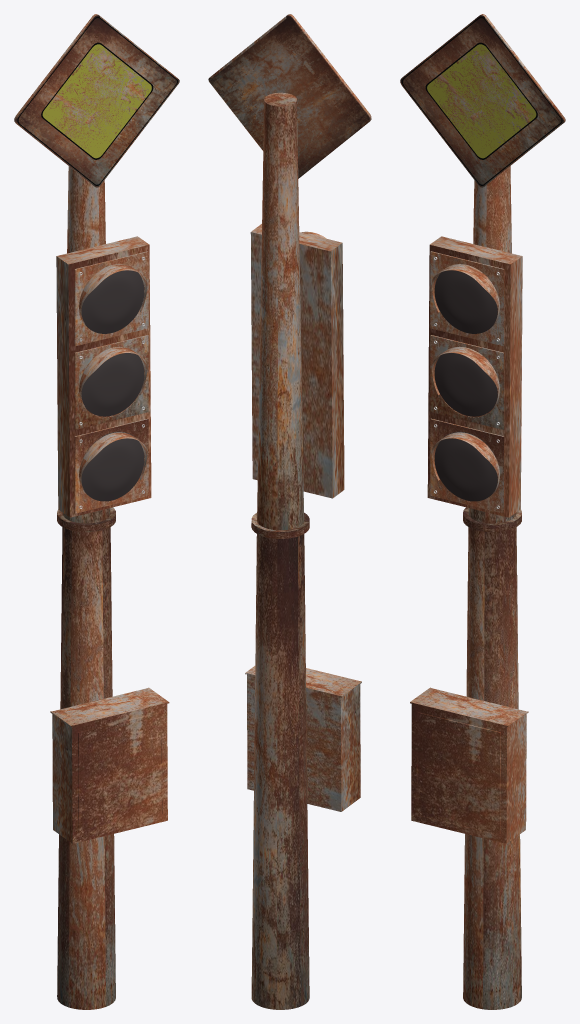
3 renders of one model, left to right at view 1: azimuth 30°, elevation 25°; view 2: azimuth 150°, elevation 25°; view 3: azimuth 330°, elevation 25°, orthographic.
Visible parts, largest first — view 1: Cylinder_2, Box_4, Plane_3, Base.006_6, Base.003_5, Circe Glass 3_1, Circe Glass 1_8, Circe Glass 2_9, Cover_7; view 2: Cylinder_2, Base.006_6, Plane_3, Box_4; view 3: Cylinder_2, Box_4, Plane_3, Base.006_6, Base.003_5, Circe Glass 3_1, Circe Glass 1_8, Circe Glass 2_9, Cover_7.
Part boxes in pixels (left/top/right/bottom): Cylinder_2: left=57, top=166, right=115, bottom=1009; Box_4: left=50, top=687, right=169, bottom=843; Plane_3: left=14, top=14, right=179, bottom=187; Base.006_6: left=56, top=236, right=151, bottom=517; Base.003_5: left=74, top=251, right=148, bottom=513; Circe Glass 3_1: left=81, top=431, right=144, bottom=501; Circe Glass 1_8: left=81, top=270, right=144, bottom=333; Circe Glass 2_9: left=81, top=346, right=144, bottom=416; Cover_7: left=79, top=264, right=147, bottom=493; Cylinder_2: left=251, top=92, right=309, bottom=1009; Base.006_6: left=250, top=224, right=344, bottom=498; Plane_3: left=208, top=14, right=371, bottom=178; Box_4: left=245, top=666, right=361, bottom=811; Cylinder_2: left=463, top=166, right=521, bottom=1009; Box_4: left=410, top=687, right=528, bottom=843; Plane_3: left=400, top=14, right=565, bottom=187; Base.006_6: left=427, top=236, right=522, bottom=517; Base.003_5: left=430, top=251, right=504, bottom=513; Circe Glass 3_1: left=434, top=431, right=497, bottom=501; Circe Glass 1_8: left=434, top=270, right=497, bottom=333; Circe Glass 2_9: left=434, top=346, right=497, bottom=416; Cover_7: left=431, top=264, right=499, bottom=493.
Bounding box in the file's own units: 4.46 × 25.79 × 2.3.
Materials: 9 (7 with a texture image).
